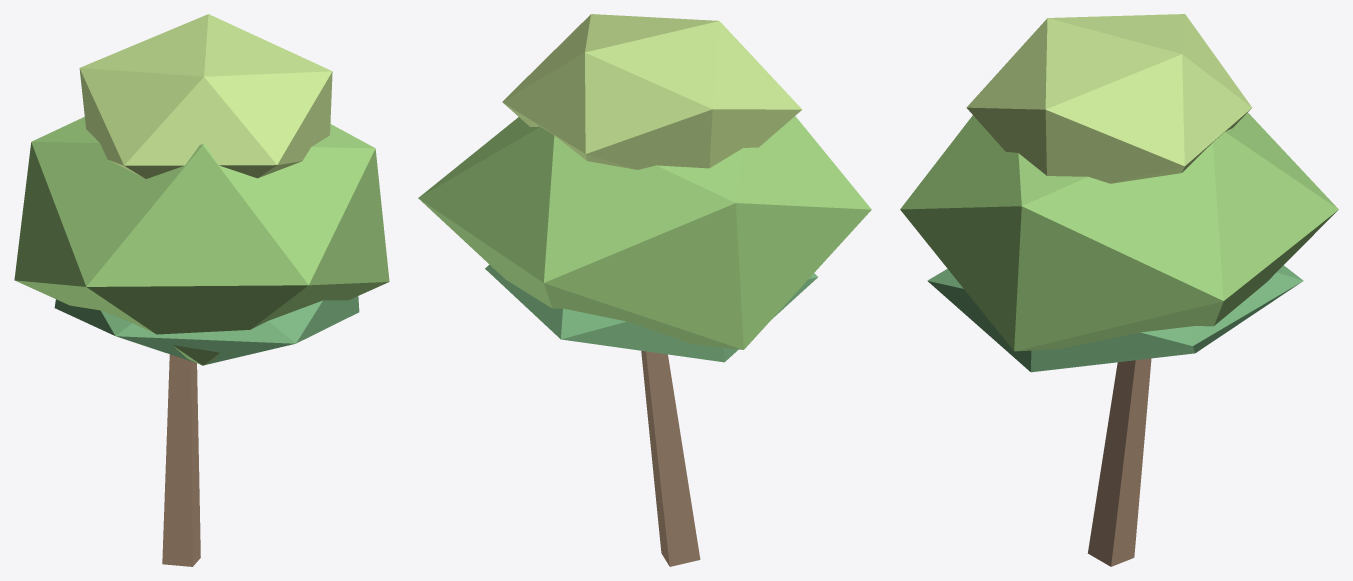
File: arvore_copa_0_lod.fbx
The picture shows the model from 3 angles, left to right: view 1: azimuth 30°, elevation 25°; view 2: azimuth 150°, elevation 25°; view 3: azimuth 270°, elevation 25°; orthographic projection. The views are drawn at different scales.
Visible parts, largest first — view 1: arvore_copa_0_lod~Copa@leaf, arvore_copa_0_lod~Copa 0@leaflight, arvore_copa_0_lod~Tronco@bark, arvore_copa_0_lod~Copa 1@leafdark; view 2: arvore_copa_0_lod~Copa@leaf, arvore_copa_0_lod~Copa 0@leaflight, arvore_copa_0_lod~Tronco@bark, arvore_copa_0_lod~Copa 1@leafdark; view 3: arvore_copa_0_lod~Copa@leaf, arvore_copa_0_lod~Copa 0@leaflight, arvore_copa_0_lod~Tronco@bark, arvore_copa_0_lod~Copa 1@leafdark.
Boxes of the visible parts, bbox=[...] form: arvore_copa_0_lod~Copa@leaf: bbox=[14, 117, 389, 365]; arvore_copa_0_lod~Copa 0@leaflight: bbox=[79, 14, 332, 178]; arvore_copa_0_lod~Tronco@bark: bbox=[162, 354, 200, 566]; arvore_copa_0_lod~Copa 1@leafdark: bbox=[54, 296, 359, 364]; arvore_copa_0_lod~Copa@leaf: bbox=[418, 116, 871, 349]; arvore_copa_0_lod~Copa 0@leaflight: bbox=[502, 14, 802, 169]; arvore_copa_0_lod~Tronco@bark: bbox=[641, 351, 700, 566]; arvore_copa_0_lod~Copa 1@leafdark: bbox=[485, 265, 817, 362]; arvore_copa_0_lod~Copa@leaf: bbox=[900, 112, 1338, 351]; arvore_copa_0_lod~Copa 0@leaflight: bbox=[966, 14, 1252, 183]; arvore_copa_0_lod~Tronco@bark: bbox=[1087, 358, 1151, 566]; arvore_copa_0_lod~Copa 1@leafdark: bbox=[927, 265, 1303, 372].
Size of the model in its own units: 7.55 by 10.6 by 7.87.
